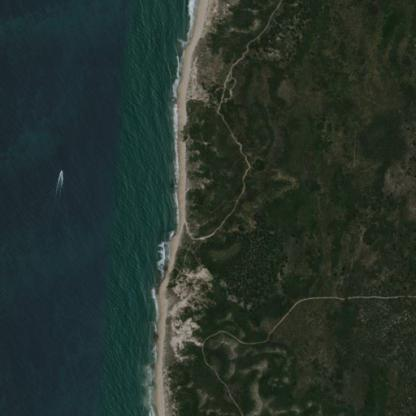ship: (42, 3, 45, 5)
